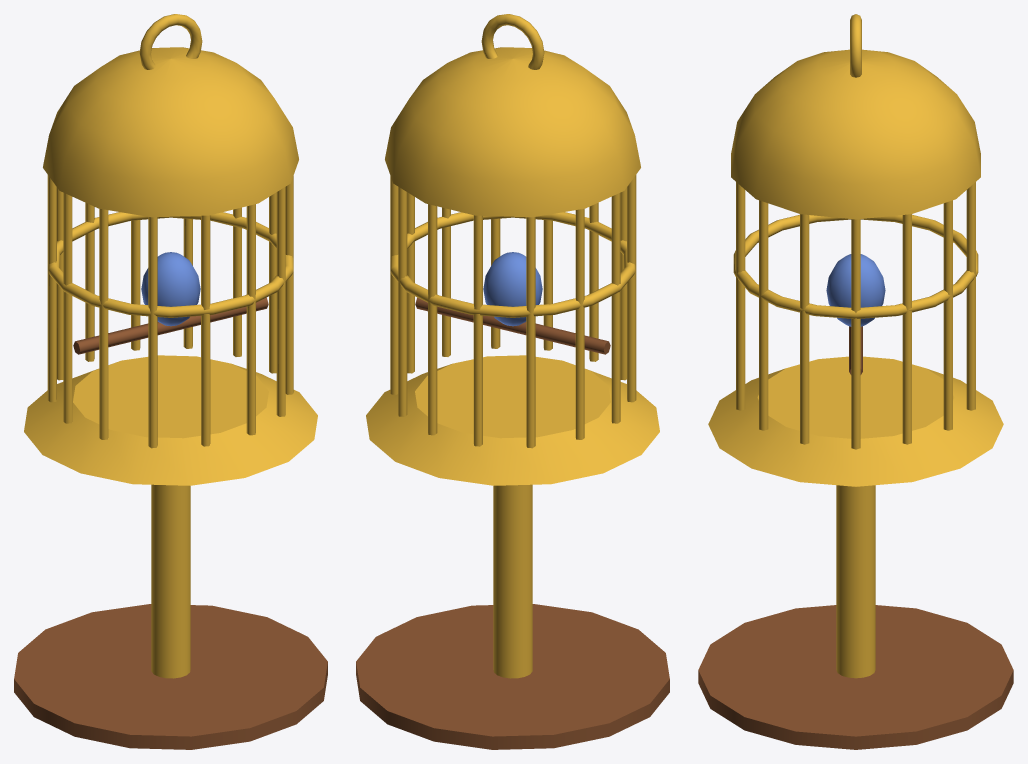
Rendered from parrot_cage.glb.
3 views of the same model, side by side, from view 1: azimuth 30°, elevation 25°; view 2: azimuth 150°, elevation 25°; view 3: azimuth 270°, elevation 25° (orthographic).
Parts seen in each view (by area): view 1: root; view 2: root; view 3: root.
Part boxes in pixels (x1,y1,x2,y2): root: (14,14,327,749); root: (356,14,669,749); root: (698,14,1013,749).
Bounding box in the file's own units: 0.64 × 1.49 × 0.64.
